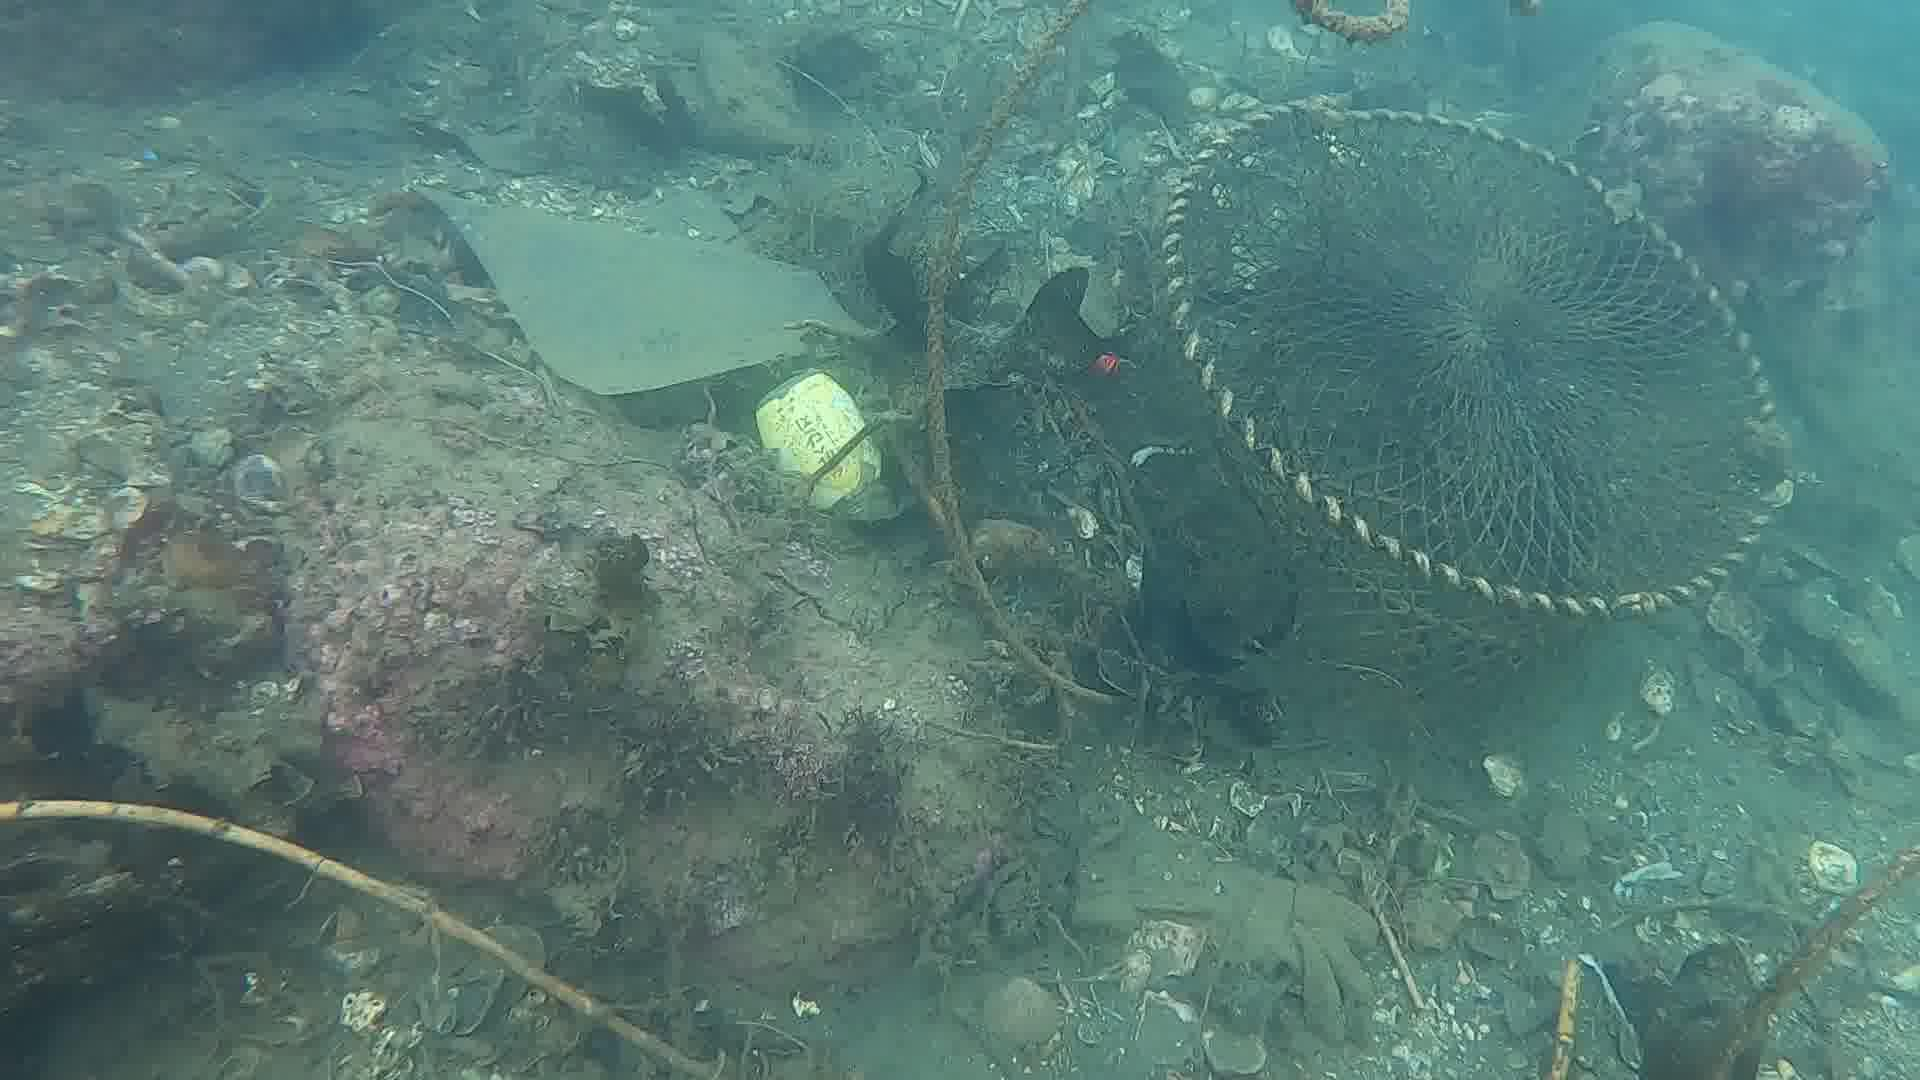circular fish trap: (1156, 98, 1795, 703)
rope: (927, 0, 1133, 707)
